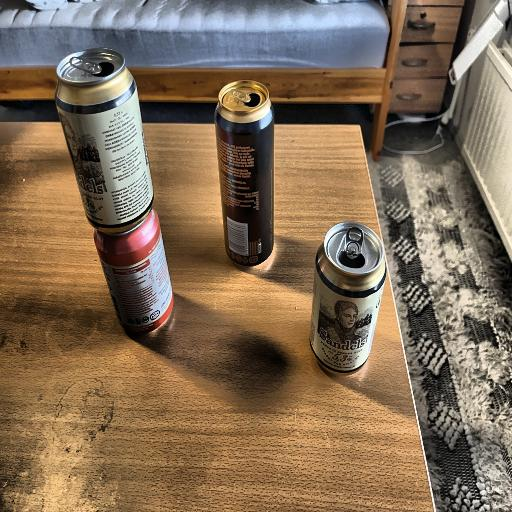karhu: (204, 67, 286, 278)
koff: (91, 207, 175, 342)
sandels: (52, 46, 156, 234), (303, 217, 391, 387)
